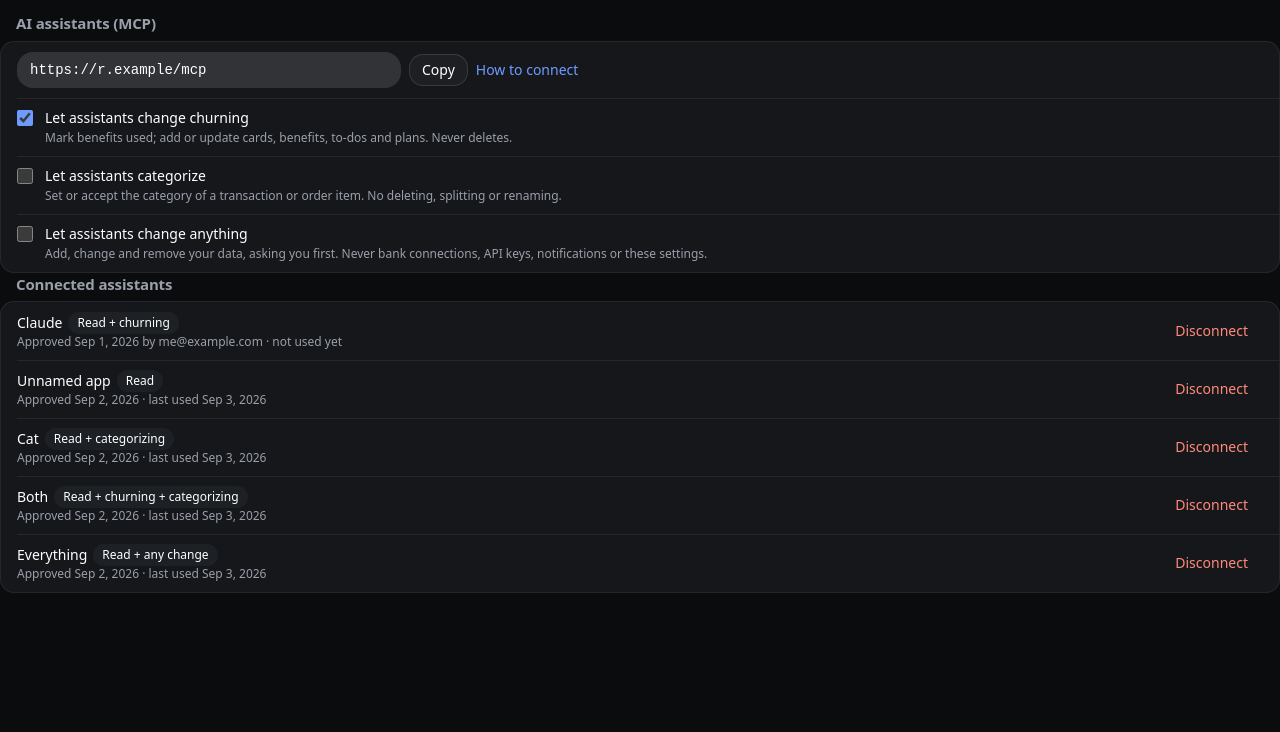
Test: AI assistants (MCP) › lists connected assistants and revokes one
The image size is (1280, 732).
Check: the text "Claude" is shown, box [17, 313, 62, 332]
Check: the text "Read + churning" is shown, box [68, 312, 179, 334]
Step 1. Click the button "Disconnect" in the row of "Claude" → (1212, 331), box [1160, 315, 1263, 347]
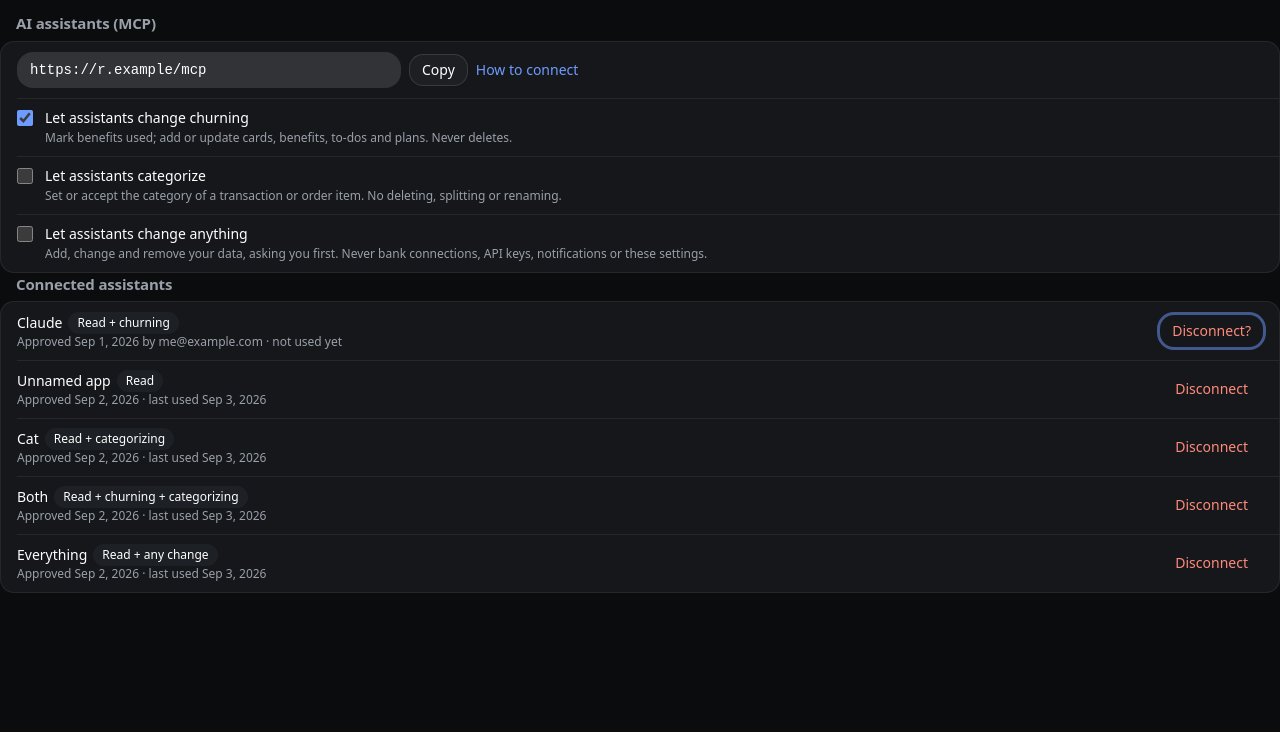
Step 2. Click the button "Disconnect?" → (1212, 331), box [1160, 315, 1263, 347]
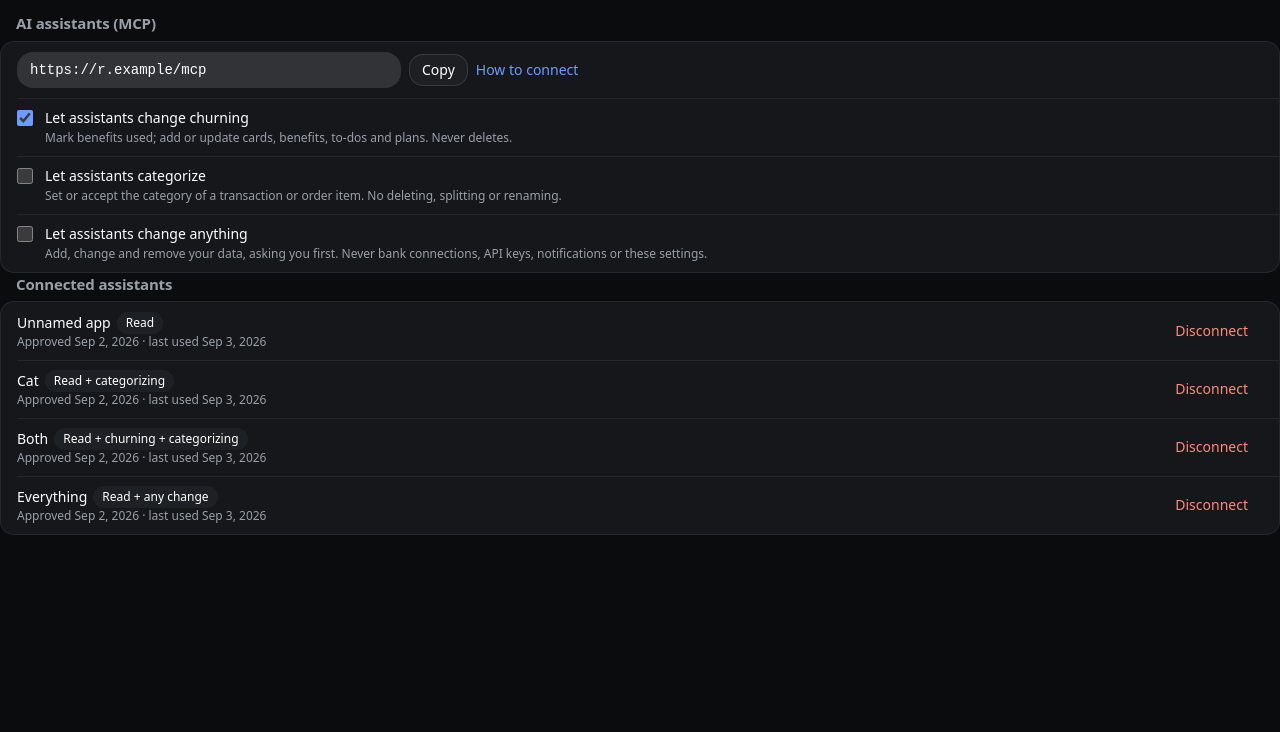
Check: the text "Unnamed app" is shown, box [17, 313, 111, 332]
Check: the text "Claude" is gone
